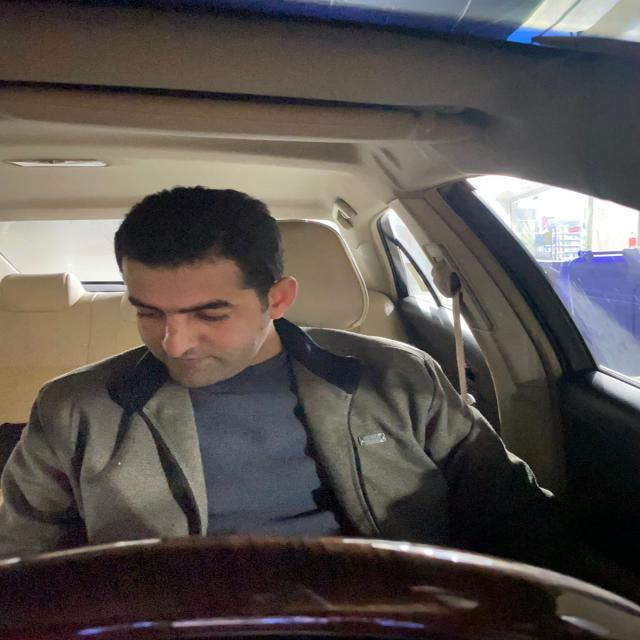drowsy: (100, 186, 299, 401)
